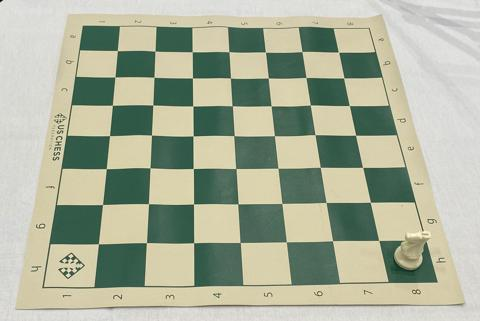xcorner: (334, 46, 345, 57), (298, 46, 309, 57), (261, 46, 272, 57), (224, 46, 235, 57), (187, 46, 198, 57), (150, 45, 161, 56), (113, 45, 124, 56), (339, 72, 350, 83), (302, 72, 313, 83), (264, 72, 275, 83), (226, 72, 237, 83), (149, 72, 160, 83), (110, 72, 121, 83), (345, 99, 356, 110), (306, 100, 317, 111), (267, 100, 278, 111), (228, 100, 239, 111), (188, 100, 199, 111), (148, 100, 159, 111), (107, 100, 118, 111), (352, 129, 363, 140), (270, 130, 281, 141), (229, 130, 240, 141), (188, 130, 199, 141), (146, 130, 157, 141), (104, 130, 115, 141), (359, 162, 370, 173), (274, 162, 285, 173), (231, 163, 242, 174), (188, 163, 199, 174), (145, 163, 156, 174), (101, 163, 112, 174), (366, 197, 377, 208), (322, 197, 333, 208), (233, 198, 244, 209), (189, 198, 200, 209), (143, 199, 154, 210), (98, 199, 109, 210), (374, 235, 385, 246), (328, 235, 339, 246), (282, 236, 293, 247), (236, 237, 247, 248), (189, 237, 200, 248), (142, 238, 153, 249), (94, 239, 105, 250), (188, 72, 198, 83), (311, 130, 322, 140), (317, 162, 327, 173), (278, 198, 289, 208)
